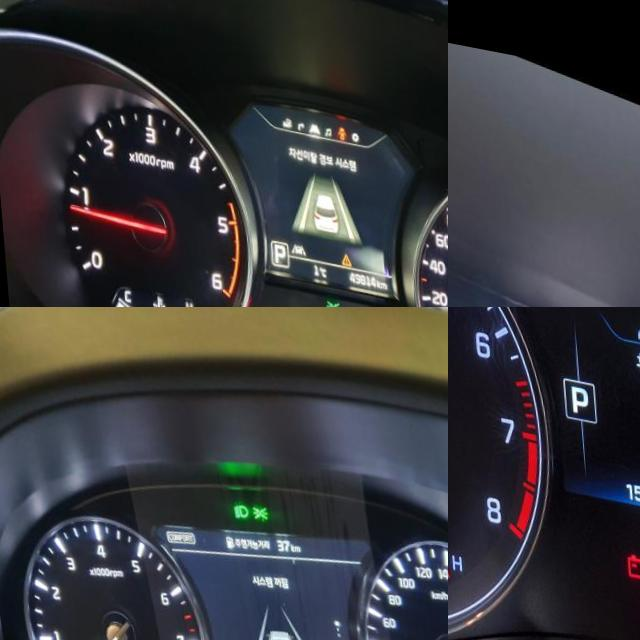Low beam: (227, 487, 244, 507)
SideLamp: (245, 489, 264, 507), (316, 285, 332, 301)
